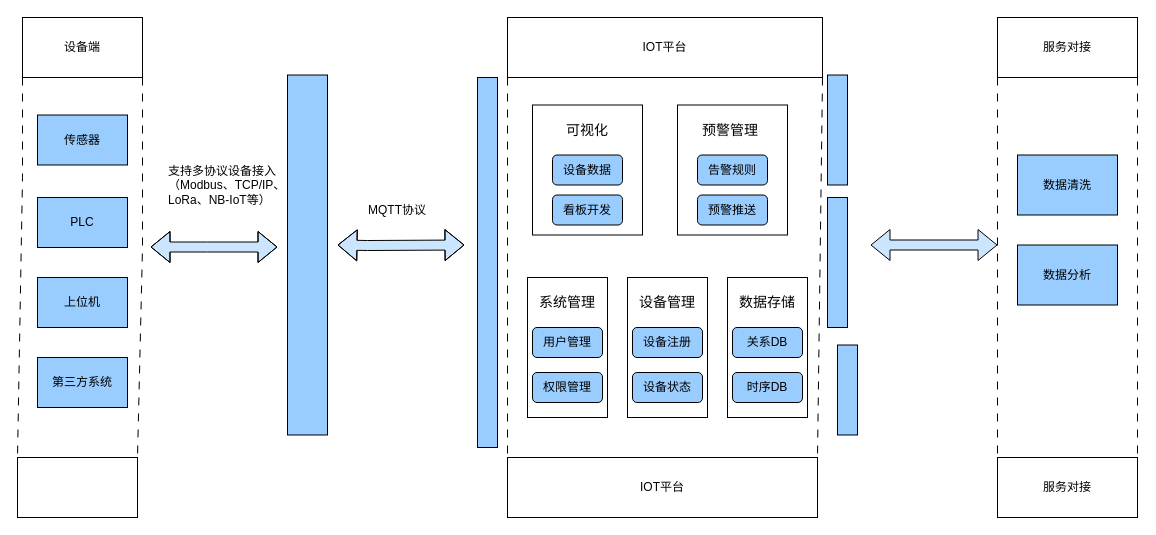
The diagram is 1156 pixels wide and 535 high, and some of its shapes have lost their labels. Each missing label, with the box of its shape:
k a f k a: (826, 196, 848, 328)
w e b a p i: (826, 74, 848, 185)
其 他: (836, 344, 858, 435)
设 备 数 据 接 入: (476, 76, 498, 448)
设备安全网络验证: (16, 456, 138, 518)
边 缘 网 关: (286, 74, 328, 435)
